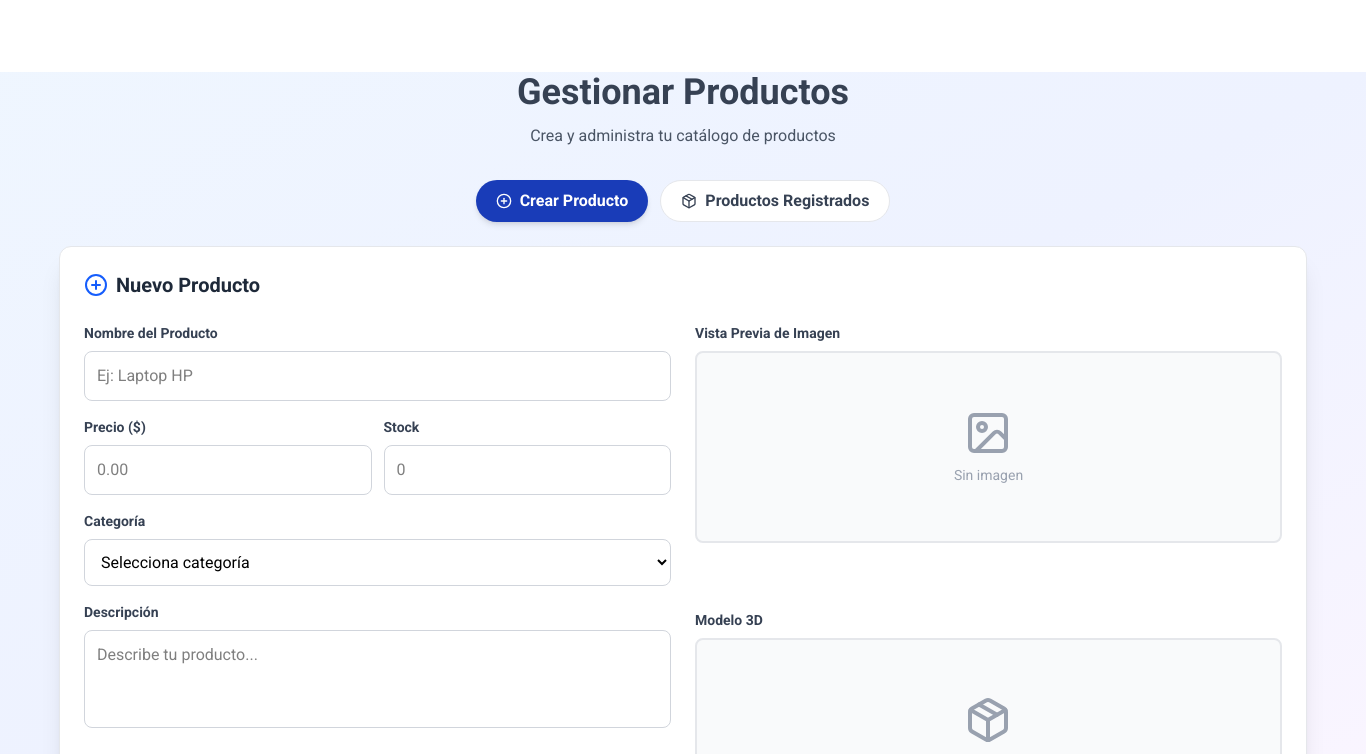
Test: ProductosVendedor › Muestra indicador de carga cuando la API tarda en responder
The image size is (1366, 754).
Click the button "Productos Registrados".
click(775, 201)  # box [660,180,890,222]
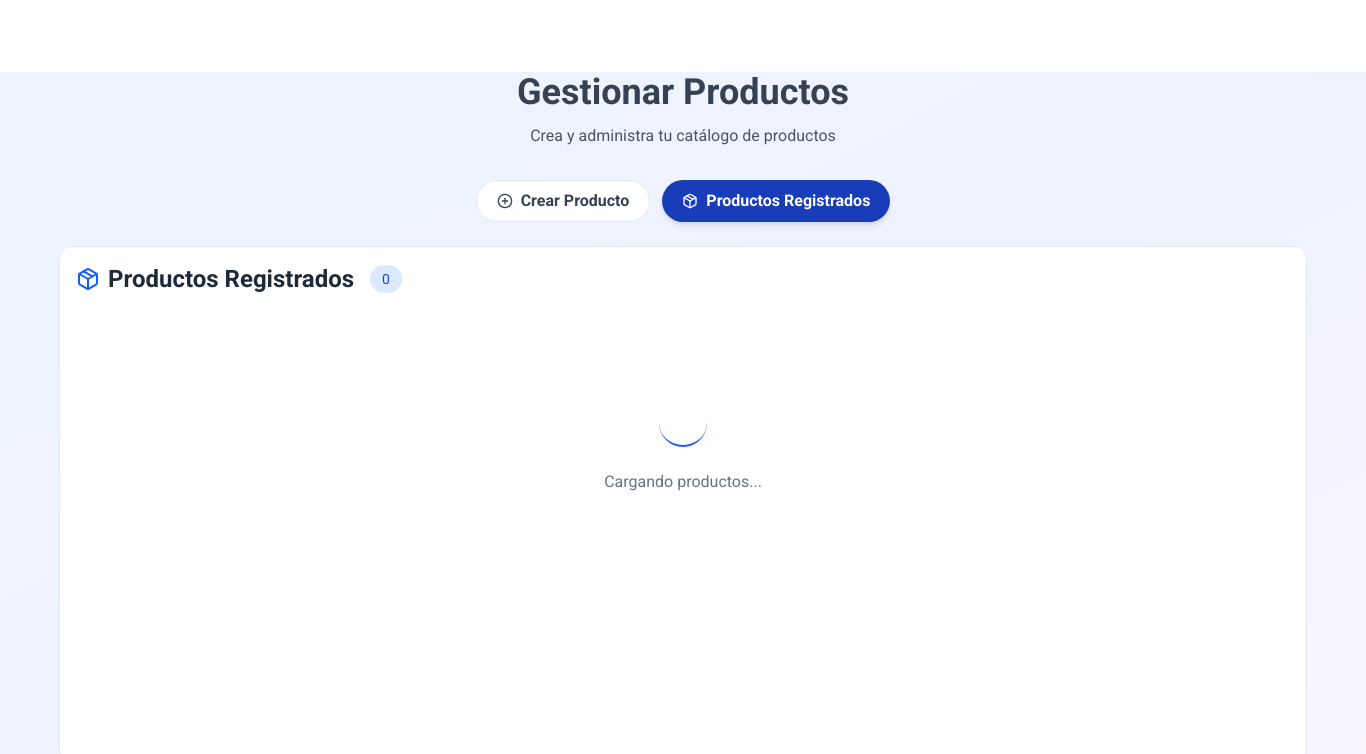
expect the text "Cargando productos..." is shown: met, box [604,470,762,494]
